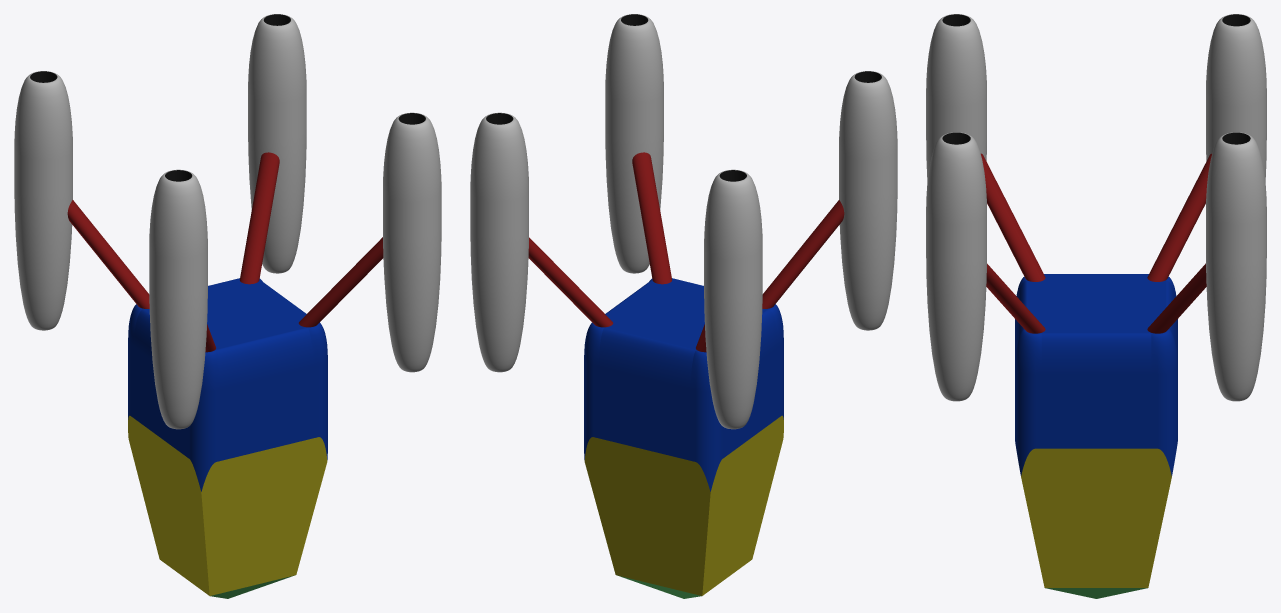
Rendered from Ship_4.fbx.
3 views of the same model, side by side, from view 1: azimuth 30°, elevation 25°; view 2: azimuth 150°, elevation 25°; view 3: azimuth 270°, elevation 25° (orthographic). The views are drawn at different scales.
Visible parts, largest first — view 1: 3DGeom~69, 3DGeom~67, 3DGeom~66, 3DGeom~68, 3DGeom~71; view 2: 3DGeom~69, 3DGeom~67, 3DGeom~66, 3DGeom~68, 3DGeom~71; view 3: 3DGeom~69, 3DGeom~67, 3DGeom~66, 3DGeom~68, 3DGeom~71, 3DGeom~70.
Part boxes in pixels (left/top/right/bottom): 3DGeom~69: left=14, top=14, right=441, bottom=429; 3DGeom~67: left=128, top=278, right=327, bottom=491; 3DGeom~66: left=128, top=415, right=327, bottom=595; 3DGeom~68: left=67, top=152, right=383, bottom=352; 3DGeom~71: left=30, top=14, right=425, bottom=181; 3DGeom~69: left=470, top=14, right=897, bottom=429; 3DGeom~67: left=584, top=278, right=783, bottom=491; 3DGeom~66: left=584, top=415, right=783, bottom=595; 3DGeom~68: left=528, top=152, right=844, bottom=352; 3DGeom~71: left=486, top=14, right=881, bottom=181; 3DGeom~69: left=926, top=14, right=1266, bottom=401; 3DGeom~67: left=1015, top=274, right=1177, bottom=475; 3DGeom~66: left=1021, top=448, right=1171, bottom=587; 3DGeom~68: left=981, top=153, right=1211, bottom=333; 3DGeom~71: left=942, top=14, right=1250, bottom=144; 3DGeom~70: left=1045, top=588, right=1147, bottom=598.
Bounding box in the file's own units: 0.0837 × 0.0837 × 0.1407.
